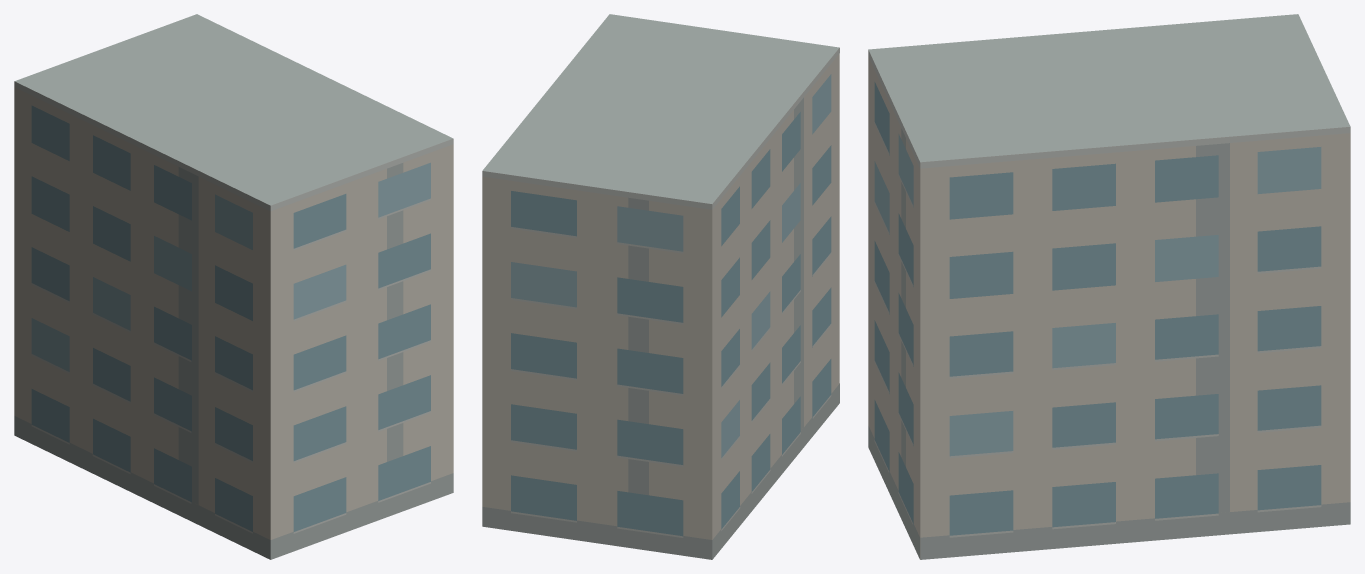
The model's file is residential-3352d52f-8c84-4567-86be-7d328854f4a4.glb.
3 views of the same model, side by side, from view 1: azimuth 30°, elevation 25°; view 2: azimuth 150°, elevation 25°; view 3: azimuth 270°, elevation 25° (orthographic). The views are drawn at different scales.
Visible parts, largest first — view 1: residential-3352d52f-8c84-4567-86be-7d328854f4a4.tmp; view 2: residential-3352d52f-8c84-4567-86be-7d328854f4a4.tmp; view 3: residential-3352d52f-8c84-4567-86be-7d328854f4a4.tmp.
Boxes of the visible parts, x1,y1,x2,y2 form: residential-3352d52f-8c84-4567-86be-7d328854f4a4.tmp: [14, 14, 453, 559]; residential-3352d52f-8c84-4567-86be-7d328854f4a4.tmp: [482, 14, 839, 559]; residential-3352d52f-8c84-4567-86be-7d328854f4a4.tmp: [868, 14, 1350, 559].
Bounding box in the file's own units: 12.21 × 15.25 × 16.78.
